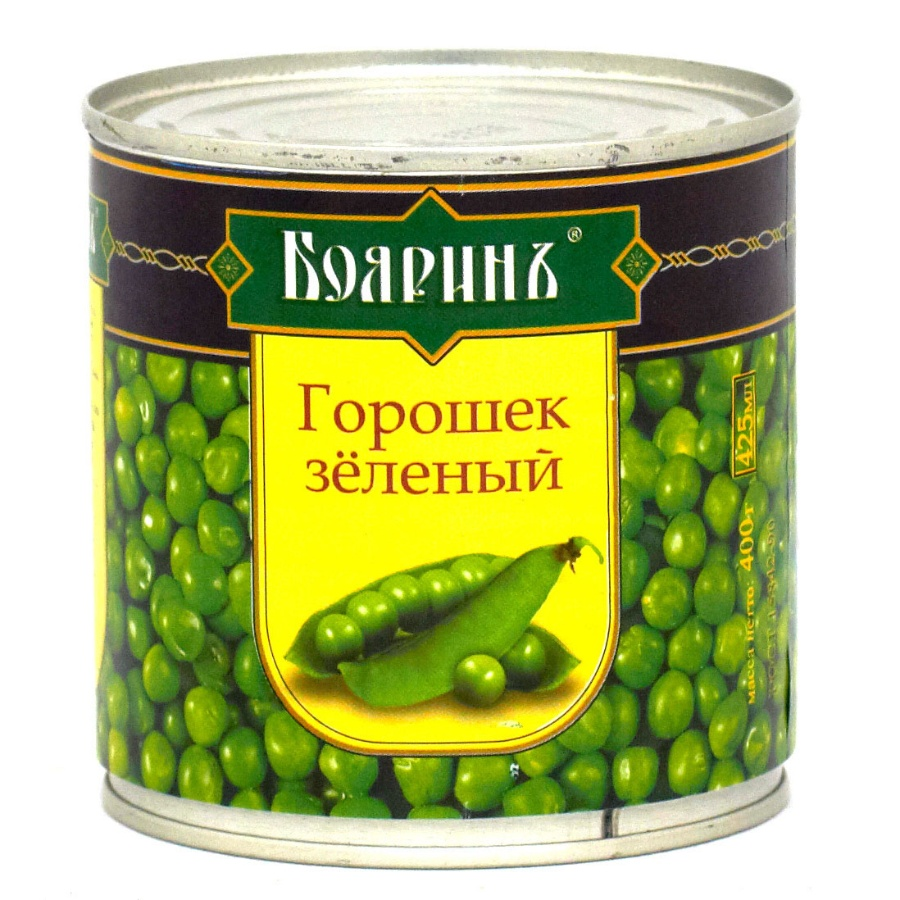peas: (33, 51, 839, 874)
